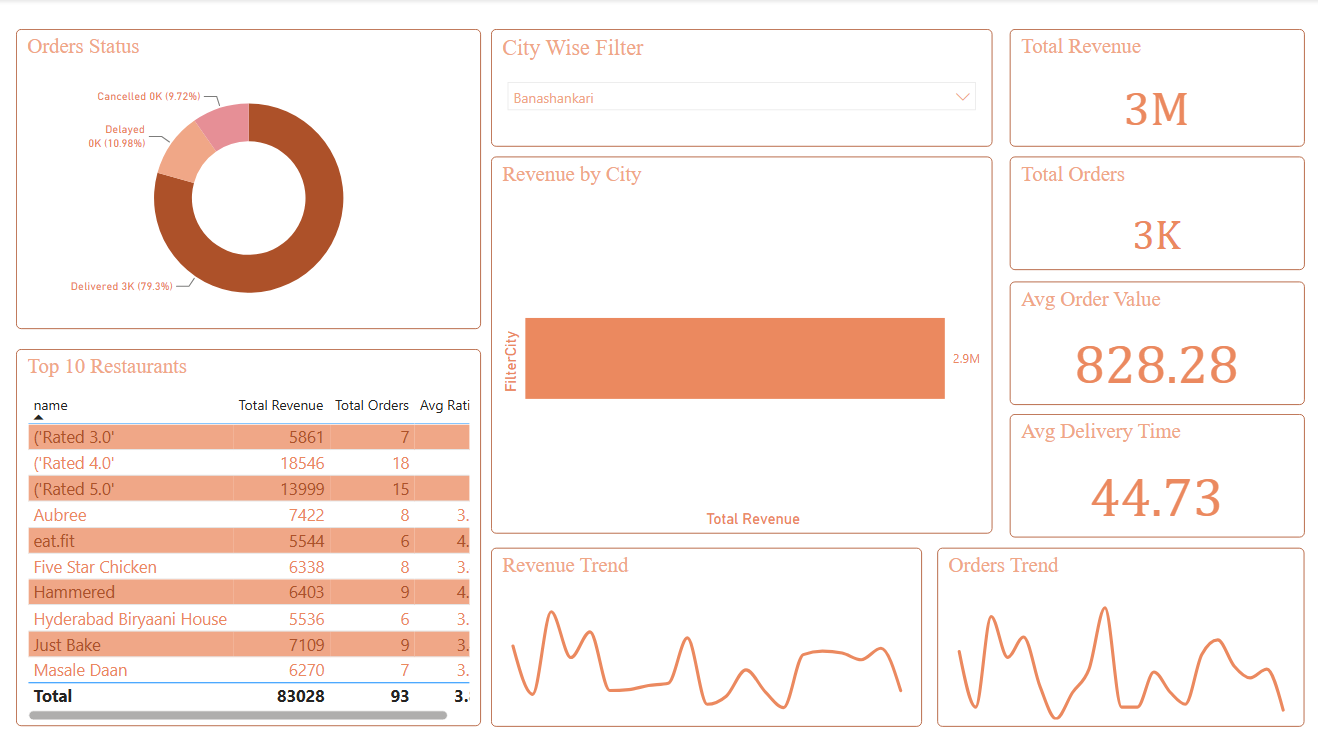

The page's visual inventory and layout, read from the dashboard file:
{"tool":"powerbi","page":{"name":"Executive Overview","canvas":[1280,720],"ordinal":0},"visuals":[{"type":"cardVisual","title":"Total Revenue","fields":{"Data":["Orders.Total Revenue"]},"box":[978.4,29,284.7,113.4],"z":0},{"type":"cardVisual","title":"Avg Delivery Time","fields":{"Data":["Orders.Avg Delivery Time"]},"box":[978.4,400.5,284.7,119.4],"z":1000},{"type":"cardVisual","title":"Avg Order Value","fields":{"Data":["Orders.Avg Order Value"]},"box":[978.4,272.7,284.7,119.4],"z":2000},{"type":"cardVisual","title":"Total Orders","fields":{"Data":["Orders.Total Orders"]},"box":[978.4,152,284.7,109.8],"z":3000},{"type":"lineChart","title":"Revenue Trend","fields":{"Y":["Orders.Total Revenue"],"Category":["DateTable.Date.Variation.Date Hierarchy.Year","DateTable.Date.Variation.Date Hierarchy.Month"]},"box":[477.8,529.6,416.2,172.5],"z":4000},{"type":"lineChart","title":"Orders Trend","fields":{"Category":["DateTable.Date.Variation.Date Hierarchy.Year","DateTable.Date.Variation.Date Hierarchy.Month"],"Y":["Orders.Total Orders"]},"box":[908.4,529.6,354.7,172.5],"z":5000},{"type":"barChart","title":"Revenue by City","fields":{"Y":["Orders.Total Revenue"],"Category":["Customers.FilterCity"]},"box":[477.8,152,483.8,364.3],"z":6000},{"type":"tableEx","title":"Top 10 Restaurants","fields":{"Values":["Restaurants.name","Orders.Total Revenue","Orders.Total Orders","Orders.Avg Rating"]},"box":[19.3,337.8,448.8,364.3],"z":7000},{"type":"slicer","title":"City Wise Filter","fields":{"Values":["Customers.FilterCity"]},"box":[477.8,29,483.8,113.4],"z":8000},{"type":"donutChart","title":"Orders Status","fields":{"Category":["Orders.OrderStatus"],"Y":["Orders.Total Orders"]},"box":[19.3,29,448.8,289.5],"z":9000}]}

Visuals, with their boxes in screenshot pixels (x1, y1, x2, y2), scaled from the page's 1280x720 canvas onto the 1318x741 screenshot:
"Total Revenue" cardVisual: left=1007, top=30, right=1301, bottom=147
"Avg Delivery Time" cardVisual: left=1007, top=412, right=1301, bottom=535
"Avg Order Value" cardVisual: left=1007, top=281, right=1301, bottom=404
"Total Orders" cardVisual: left=1007, top=156, right=1301, bottom=269
"Revenue Trend" lineChart: left=492, top=545, right=921, bottom=723
"Orders Trend" lineChart: left=935, top=545, right=1301, bottom=723
"Revenue by City" barChart: left=492, top=156, right=990, bottom=531
"Top 10 Restaurants" tableEx: left=20, top=348, right=482, bottom=723
"City Wise Filter" slicer: left=492, top=30, right=990, bottom=147
"Orders Status" donutChart: left=20, top=30, right=482, bottom=328
